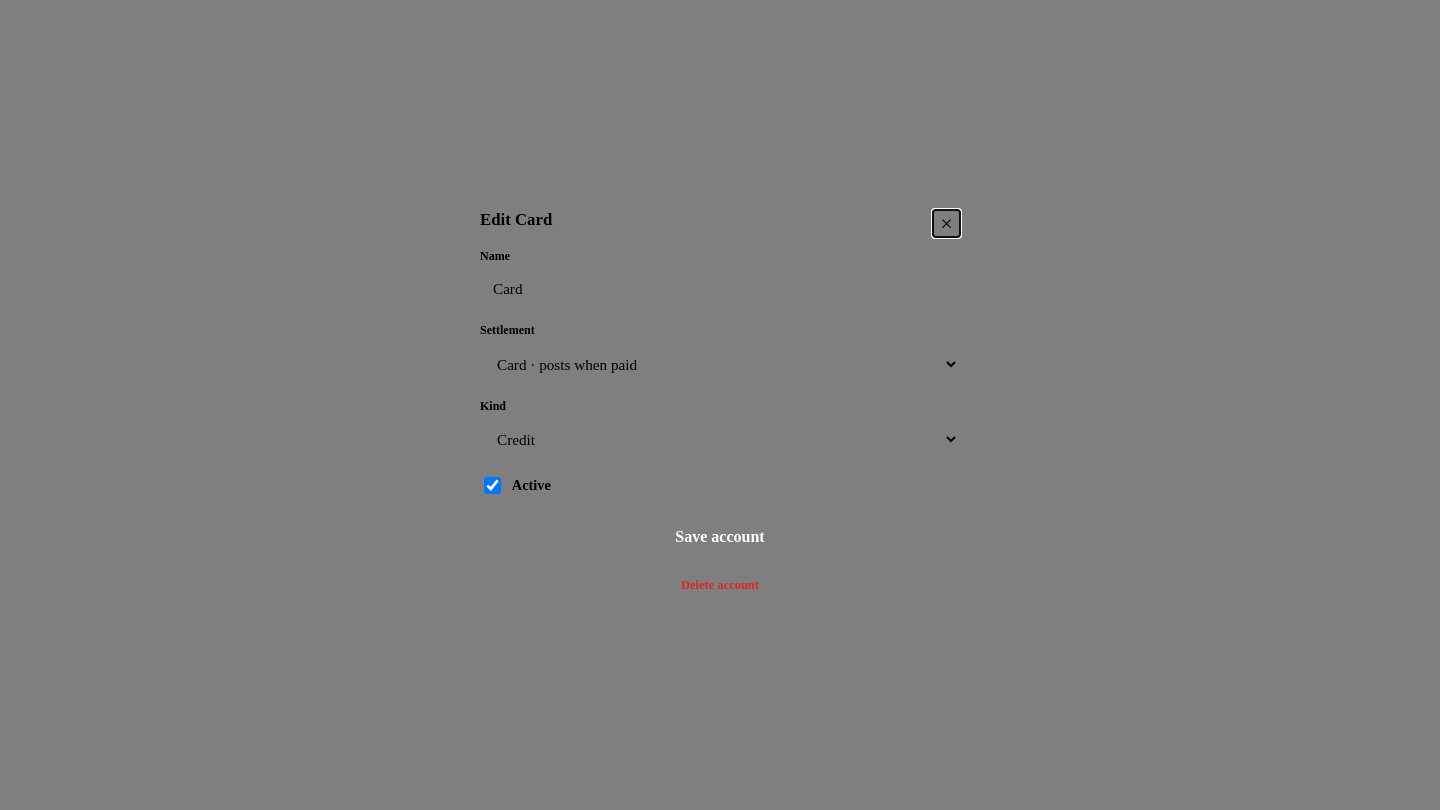
it: deleting a category or account from a window › counts statements for an account too, and deletes outright one the server counts nothing for
This screenshot has width=1440, height=810.
Click the button "Delete account". click: (720, 585)
box: [480, 572, 960, 598]
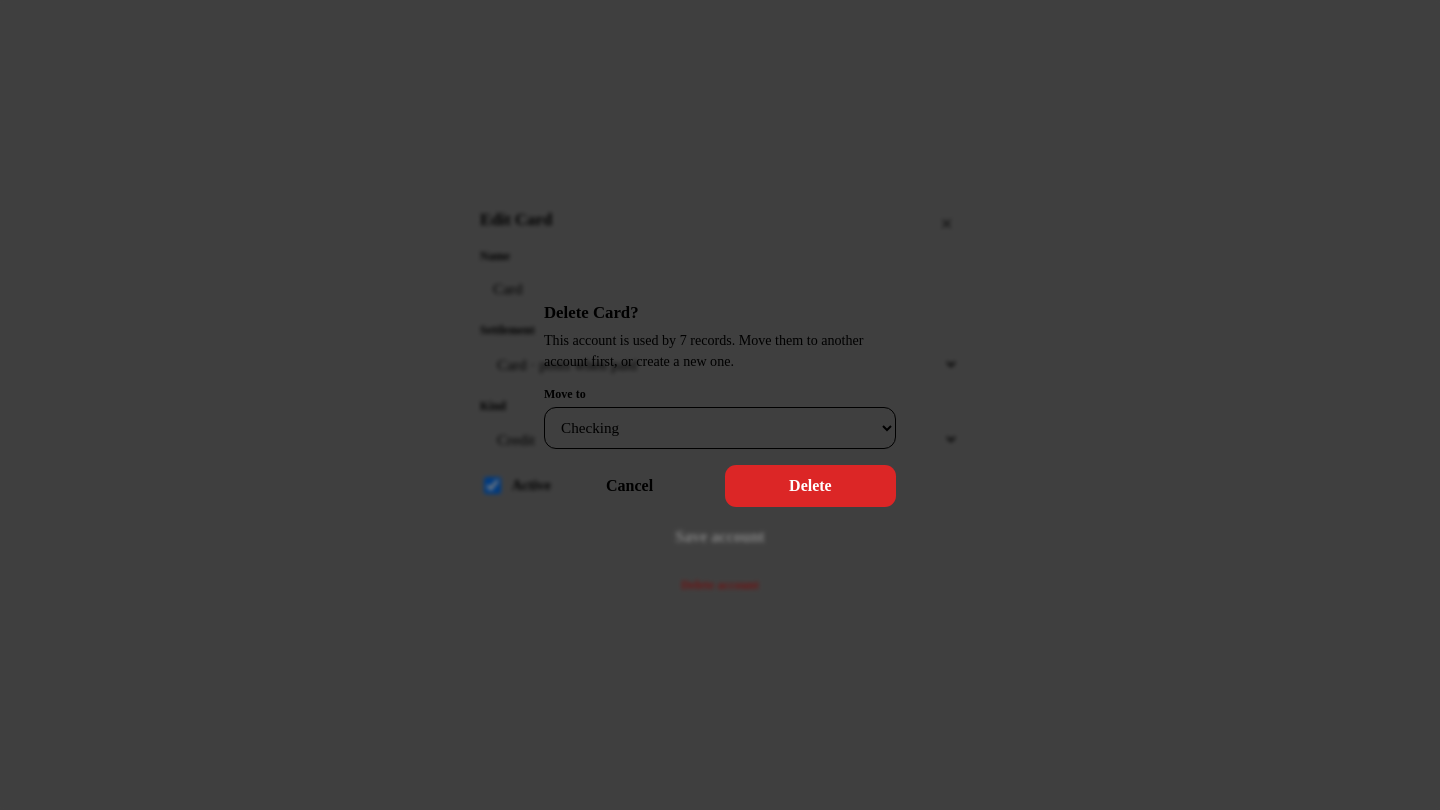
Result: the text "used by 7 records" is shown at [544, 332, 863, 369]
